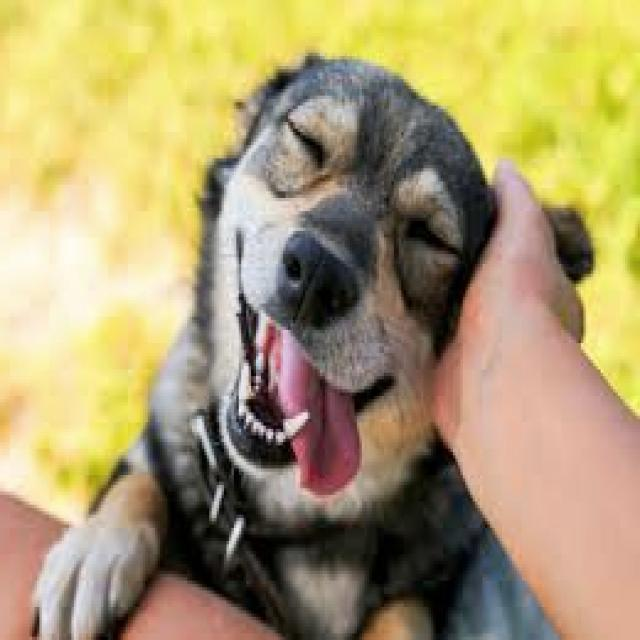dog: (37, 56, 559, 637)
